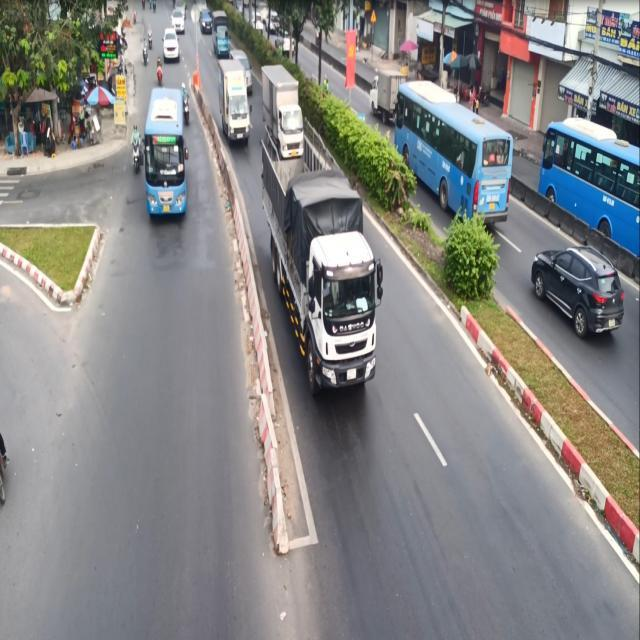bus: (393, 79, 513, 226), (537, 116, 639, 261), (144, 87, 196, 219)
car: (530, 245, 624, 338), (213, 58, 252, 143)
truck: (258, 132, 383, 396), (258, 62, 316, 166)
